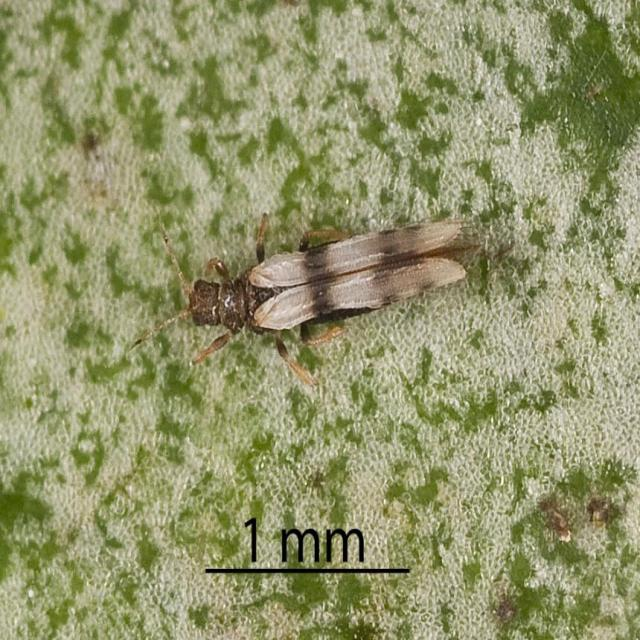Thrip-Adult-: (143, 195, 499, 368)
